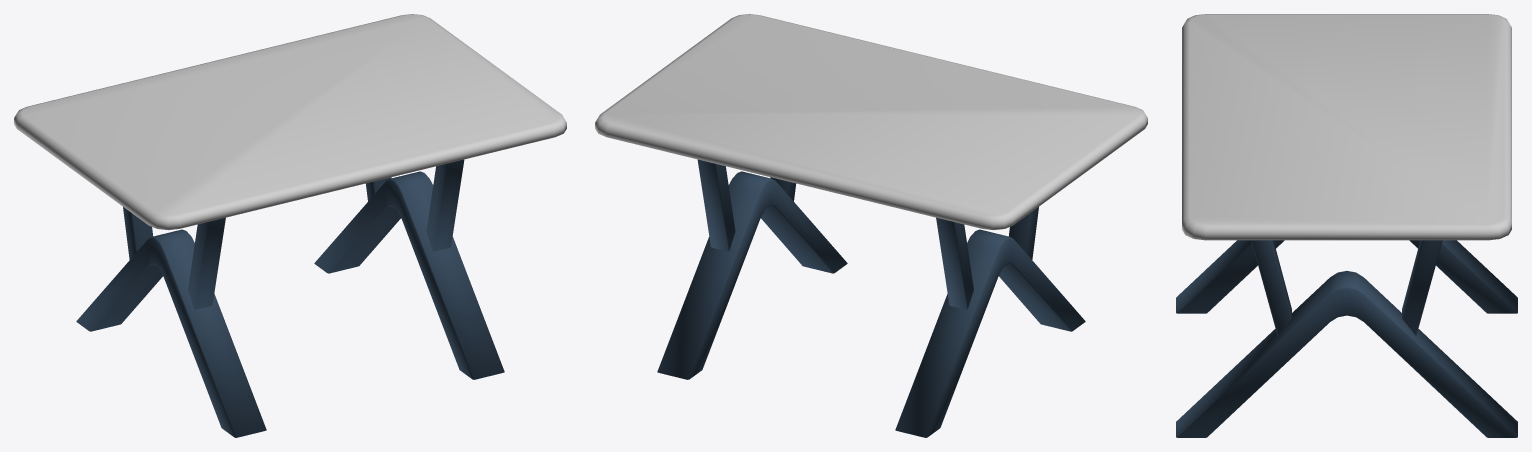
File: Luxury-Table-4.fbx
3 renders of one model, left to right at view 1: azimuth 30°, elevation 25°; view 2: azimuth 150°, elevation 25°; view 3: azimuth 270°, elevation 25°, orthographic. The views are drawn at different scales.
Parts seen in each view (by area): view 1: Luxury-Table-4; view 2: Luxury-Table-4; view 3: Luxury-Table-4.
Boxes of the visible parts, <box> form: Luxury-Table-4: <box>14,14,566,437</box>; Luxury-Table-4: <box>595,14,1147,437</box>; Luxury-Table-4: <box>1176,14,1517,437</box>.
Size of the model in its own units: 1.5 by 0.8 by 1.
